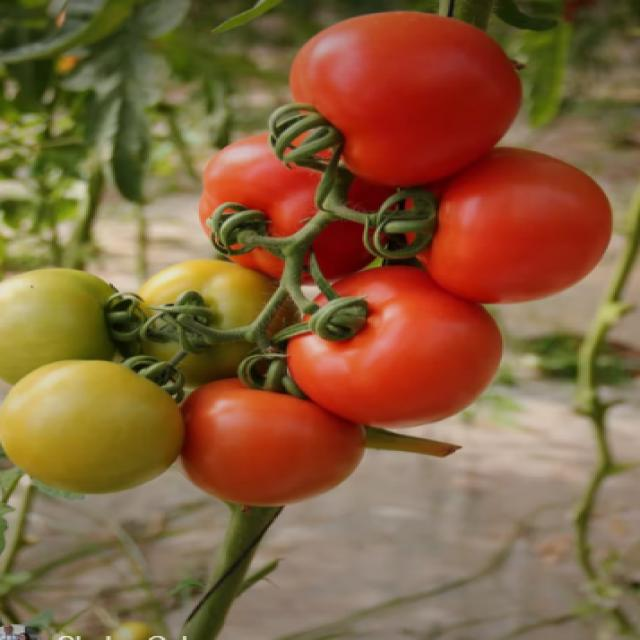Tomato: (290, 14, 526, 175)
